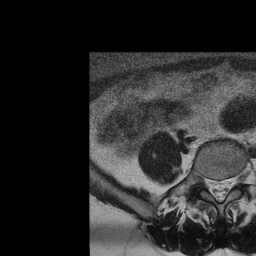CCS_normal: (215, 171, 224, 208)
LFS_normal: (231, 164, 241, 195)
LLS_normal: (224, 171, 232, 201)
RFS_normal: (198, 166, 207, 196)
RLS_normal: (207, 170, 215, 202)
